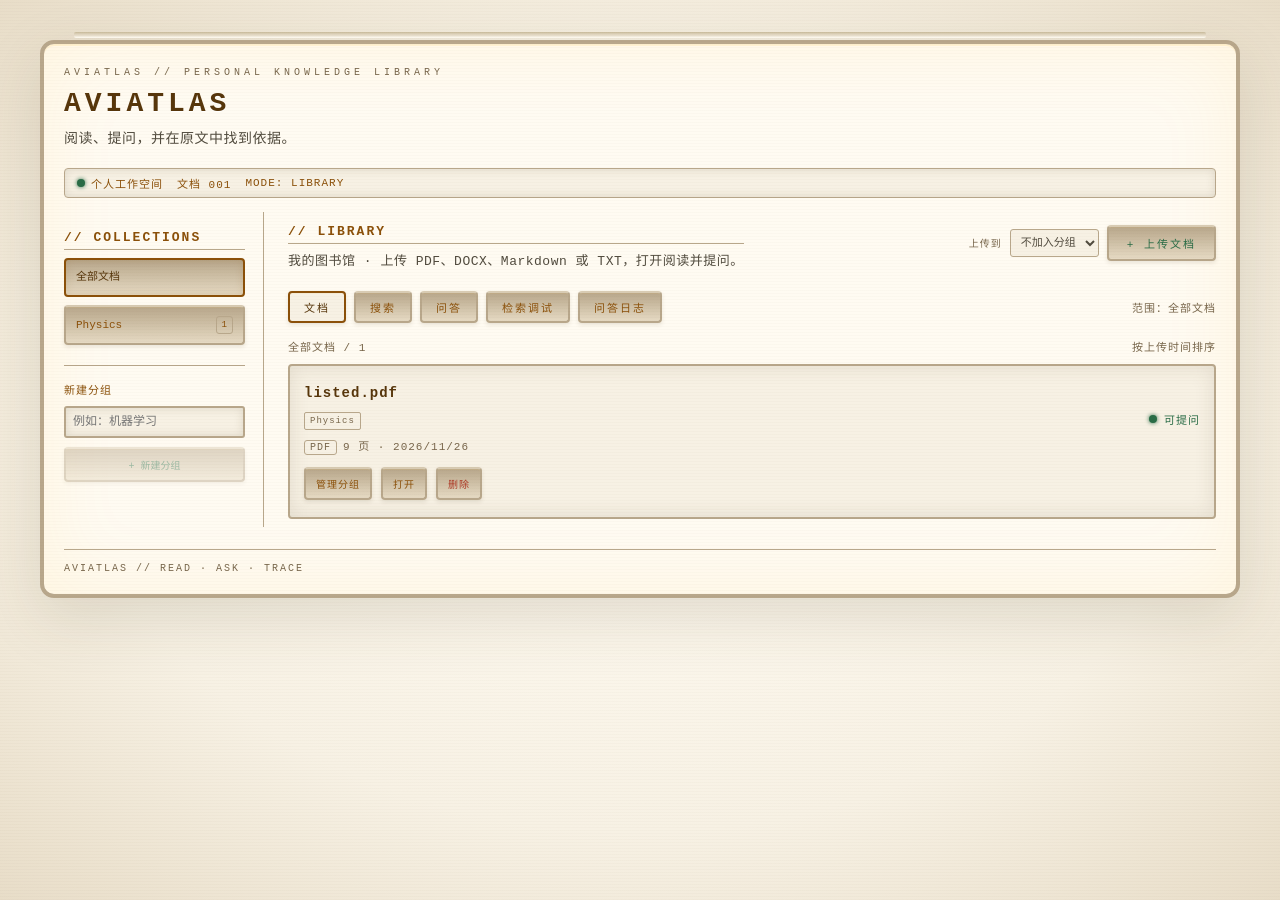
sends the chosen retrieval method
The image size is (1280, 900).
Check: the heading "listed.pdf" is shown, box [304,385,398,401]
Click the tab "搜索" at (383, 307), box [354,291,412,323]
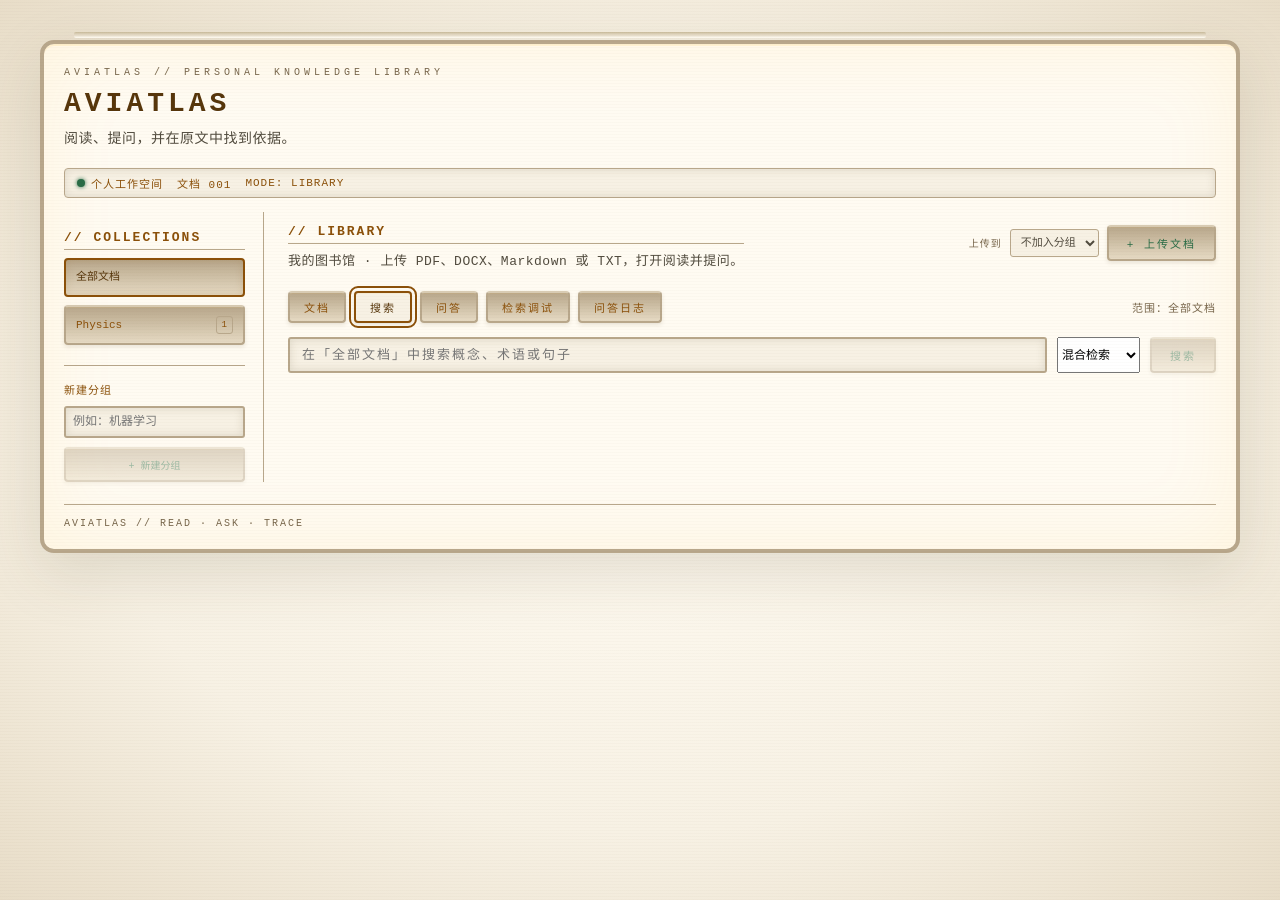
Select "关键词检索" in the dropdown named "检索方式" at (1098, 355), box [1057,337,1140,373]
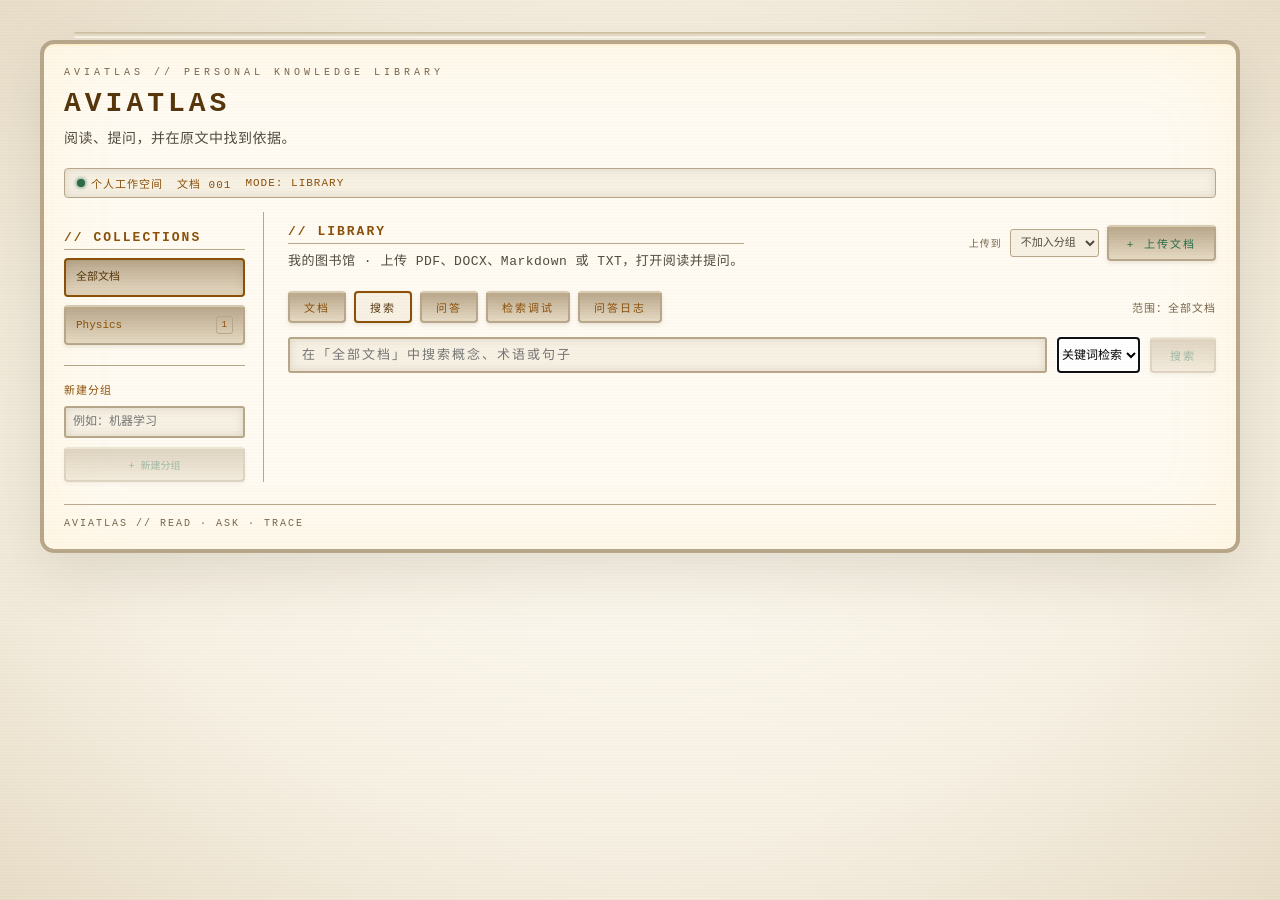
Type "rotation" into the field named "搜索内容" at (668, 355), box [288,337,1047,373]
Then press Enter
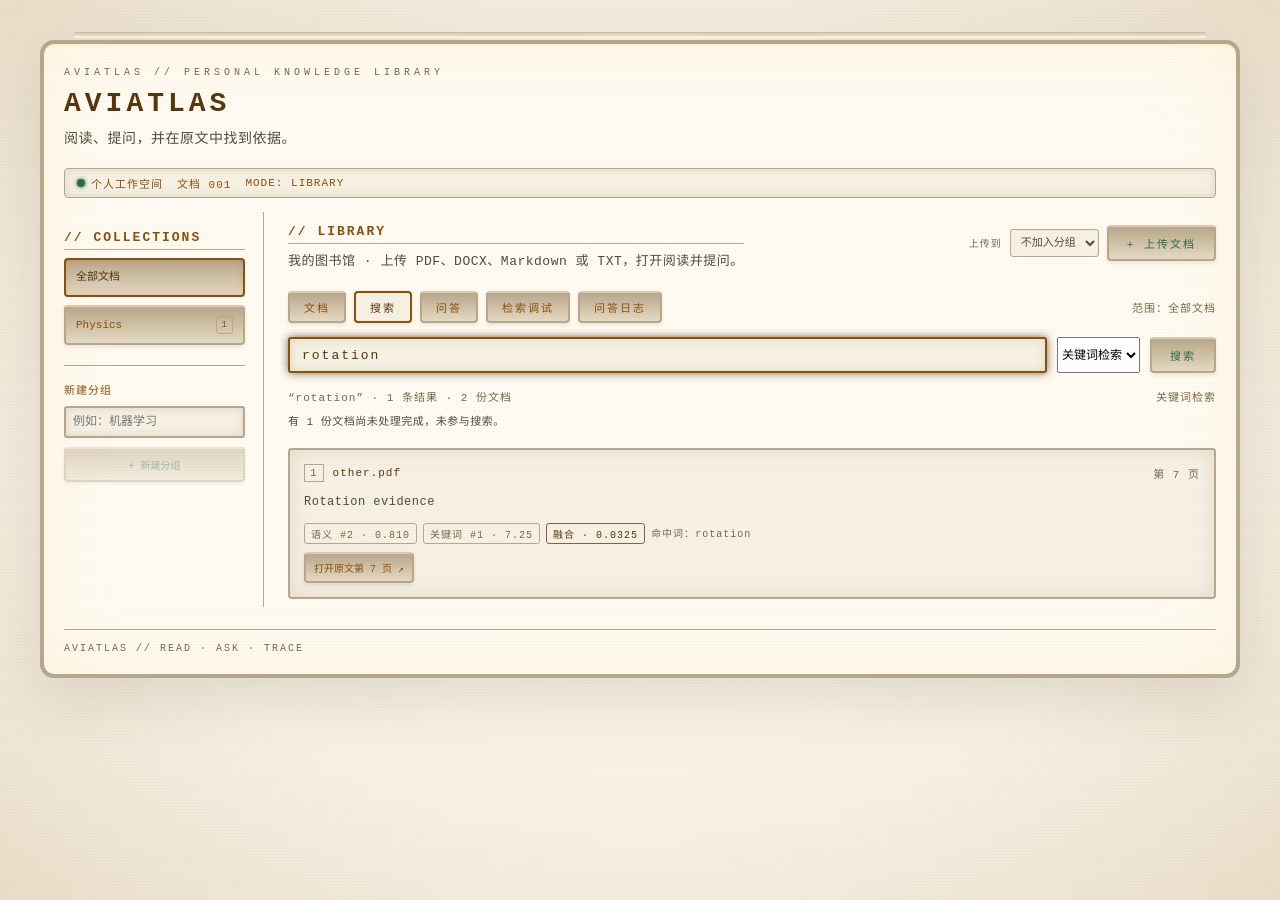
Check: the text "Rotation evidence" is shown, box [304,495,435,509]
Check: the text "关键词检索" is shown, box [1156,388,1216,404]
